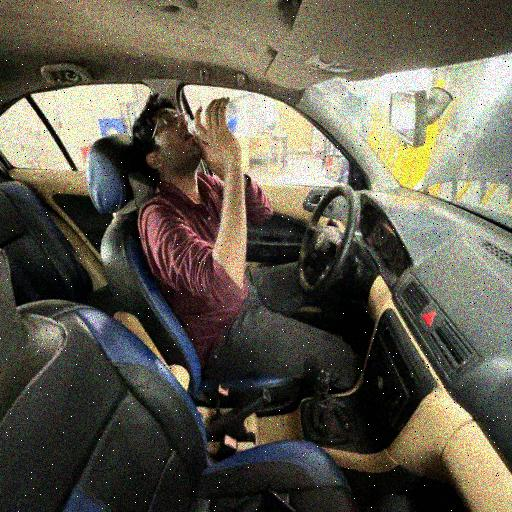Drinking: (129, 91, 292, 316)
